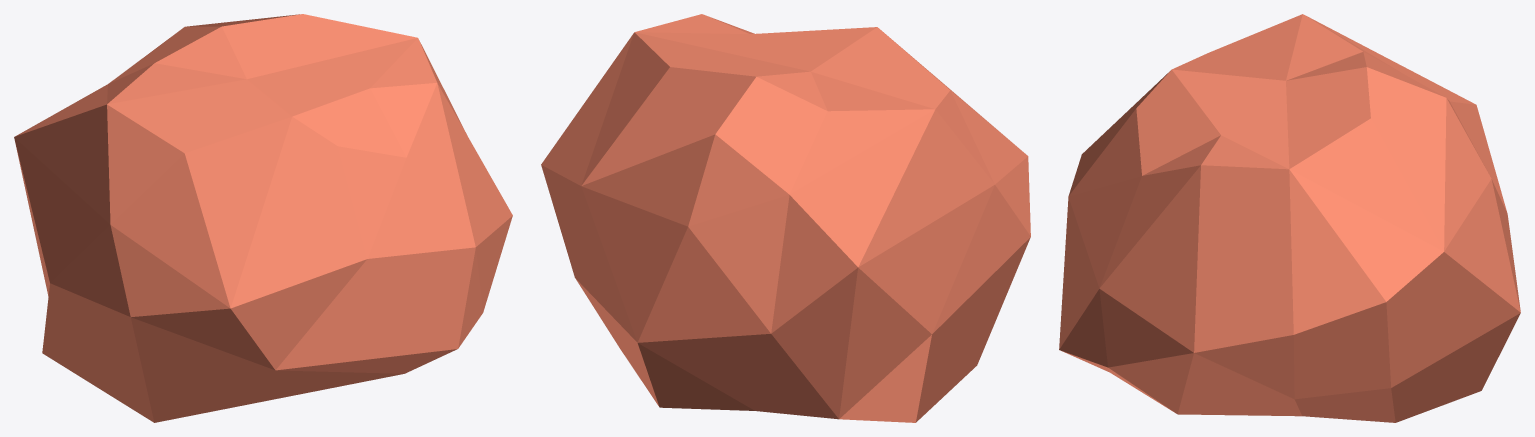
Rendered from bush2.fbx.
3 renders of one model, left to right at view 1: azimuth 30°, elevation 25°; view 2: azimuth 150°, elevation 25°; view 3: azimuth 270°, elevation 25°, orthographic. The views are drawn at different scales.
Visible parts, largest first — view 1: Bush2; view 2: Bush2; view 3: Bush2.
Part boxes in pixels (x1,y1,x2,y2): Bush2: [14, 14, 512, 422]; Bush2: [541, 14, 1030, 422]; Bush2: [1059, 14, 1520, 422].
Bounding box in the file's own units: 314 × 230 × 306.
